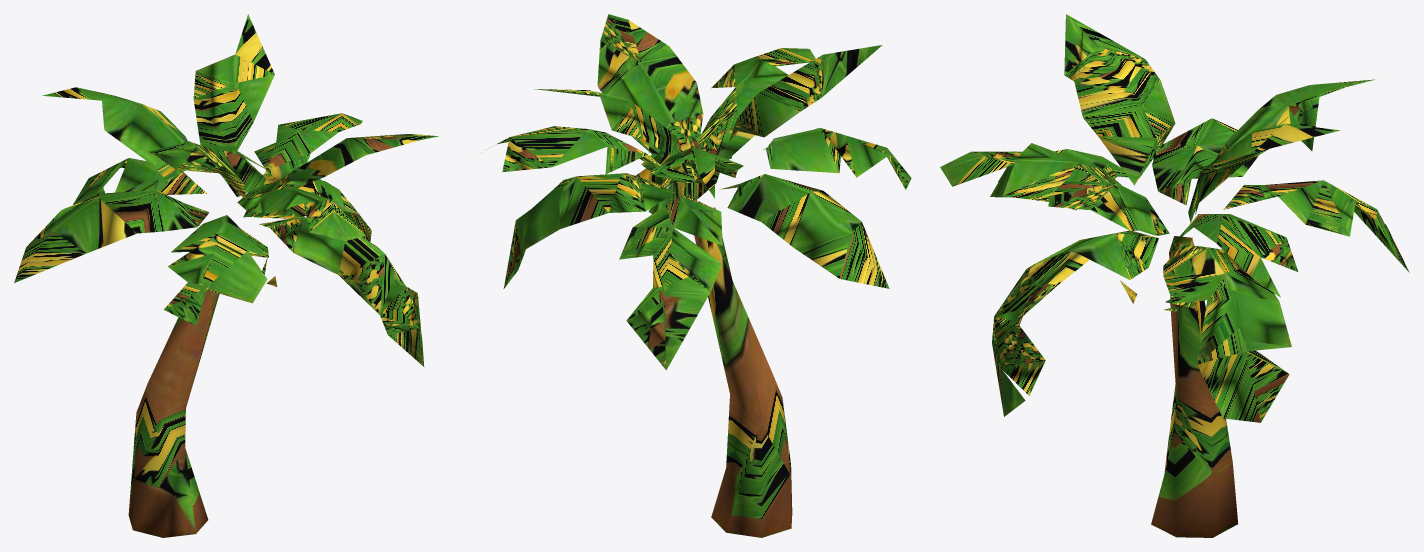
File: banana-2-far.glb
3 renders of one model, left to right at view 1: azimuth 30°, elevation 25°; view 2: azimuth 150°, elevation 25°; view 3: azimuth 270°, elevation 25°, orthographic. The views are drawn at different scales.
Parts seen in each view (by area): view 1: geometry_0; view 2: geometry_0; view 3: geometry_0.
Part boxes in pixels (x1,y1,x2,y2): geometry_0: (14, 14, 438, 537); geometry_0: (481, 14, 911, 537); geometry_0: (940, 14, 1409, 537).
Bounding box in the file's own units: 0.8701 × 0.9434 × 0.8525.
Materials: 1 (1 with a texture image).
